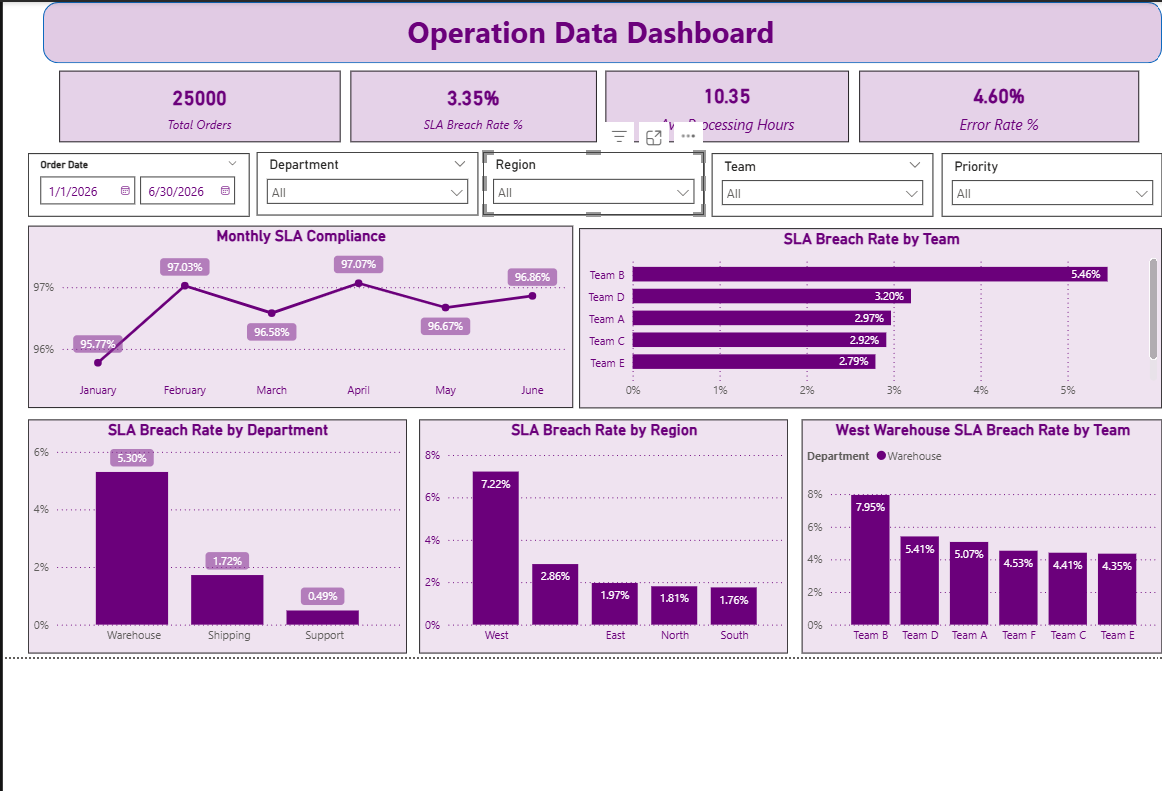

The page's visual inventory and layout, read from the dashboard file:
{"tool":"powerbi","page":{"name":"Operation Dashboard","canvas":[1280,720],"ordinal":0},"visuals":[{"type":"shape","box":[43.9,0,1229.5,67.2],"z":0},{"type":"textbox","box":[57.6,5.5,1176,56.3],"z":1000},{"type":"card","fields":{"Values":["operations_cleaned.SLA Breach Rate %"]},"box":[381.9,75.4,270.3,78.2],"z":2000},{"type":"card","fields":{"Values":["operations_cleaned.Total Orders"]},"box":[62.1,75.4,308.7,78.2],"z":3000},{"type":"card","fields":{"Values":["operations_cleaned.Avg Processing Hours"]},"box":[661.8,75.4,267.6,78.2],"z":4000},{"type":"card","fields":{"Values":["operations_cleaned.Error Rate %"]},"box":[940.4,75.4,307.4,78.2],"z":5000},{"type":"lineChart","title":"Monthly SLA Compliance","fields":{"Category":["operations_cleaned.Order_Date.Variation.Date Hierarchy.Month"],"Y":["operations_cleaned.SLA Compliance %"]},"box":[27.4,245.6,598.3,200.3],"z":6000},{"type":"clusteredColumnChart","title":"SLA Breach Rate by Region","fields":{"Category":["operations_cleaned.Region"],"Y":["operations_cleaned.SLA Breach Rate"]},"box":[456.9,458.3,404.8,256.6],"z":7000},{"type":"columnChart","title":"SLA Breach Rate by Department","fields":{"Category":["operations_cleaned.Department"],"Y":["operations_cleaned.SLA Breach Rate %"]},"box":[27.4,458.3,415.8,256.6],"z":8000},{"type":"slicer","title":"Order Date","fields":{"Values":["operations_cleaned.Order_Date"]},"box":[27.5,165.7,242.9,70],"z":9000},{"type":"slicer","fields":{"Values":["operations_cleaned.Department"]},"box":[278.6,164.3,242.9,70],"z":10000},{"type":"slicer","fields":{"Values":["operations_cleaned.Region"]},"box":[526.9,164.3,242.9,70],"z":11000},{"type":"slicer","fields":{"Values":["operations_cleaned.Priority"]},"box":[1030.5,165.7,242.9,70],"z":12000},{"type":"slicer","fields":{"Values":["operations_cleaned.Team"]},"box":[778.1,165.7,242.9,70],"z":13000},{"type":"clusteredBarChart","title":"SLA Breach Rate by Team","fields":{"Category":["operations_cleaned.Team"],"Y":["operations_cleaned.SLA Breach Rate %"]},"box":[632.6,248.4,640.8,197.6],"z":14000},{"type":"clusteredColumnChart","title":"West Warehouse SLA Breach Rate by Team","fields":{"Series":["operations_cleaned.Department"],"Y":["operations_cleaned.SLA Breach Rate %"],"Category":["operations_cleaned.Team"]},"box":[876.8,458.3,396.6,256.6],"z":15000}]}

Visuals, with their boxes in screenshot pixels (x1, y1, x2, y2):
shape: select_region(17, 0, 1158, 59)
textbox: select_region(29, 2, 1121, 54)
card - operations_cleaned.SLA Breach Rate %: select_region(330, 67, 581, 140)
card - operations_cleaned.Total Orders: select_region(33, 67, 320, 140)
card - operations_cleaned.Avg Processing Hours: select_region(590, 67, 838, 140)
card - operations_cleaned.Error Rate %: select_region(849, 67, 1134, 140)
"Monthly SLA Compliance" lineChart: select_region(1, 225, 557, 411)
"SLA Breach Rate by Region" clusteredColumnChart: select_region(400, 422, 776, 661)
"SLA Breach Rate by Department" columnChart: select_region(1, 422, 387, 661)
"Order Date" slicer: select_region(1, 151, 227, 216)
slicer - operations_cleaned.Department: select_region(234, 149, 460, 214)
slicer - operations_cleaned.Region: select_region(465, 149, 690, 214)
slicer - operations_cleaned.Priority: select_region(932, 151, 1158, 216)
slicer - operations_cleaned.Team: select_region(698, 151, 923, 216)
"SLA Breach Rate by Team" clusteredBarChart: select_region(563, 228, 1158, 411)
"West Warehouse SLA Breach Rate by Team" clusteredColumnChart: select_region(790, 422, 1158, 661)
